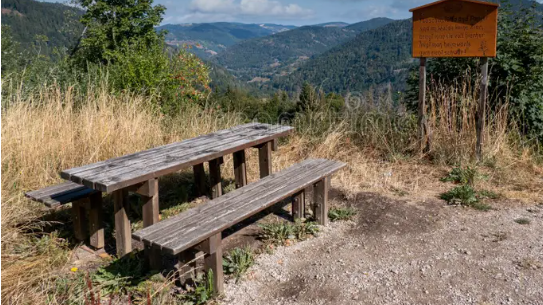obstacle: (34, 119, 343, 297)
